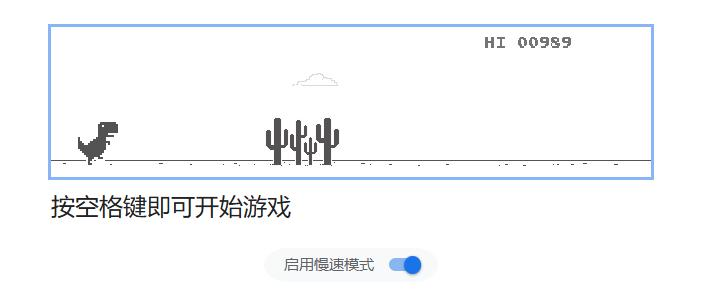cactus: (264, 117, 340, 167)
dino: (75, 121, 119, 166)
